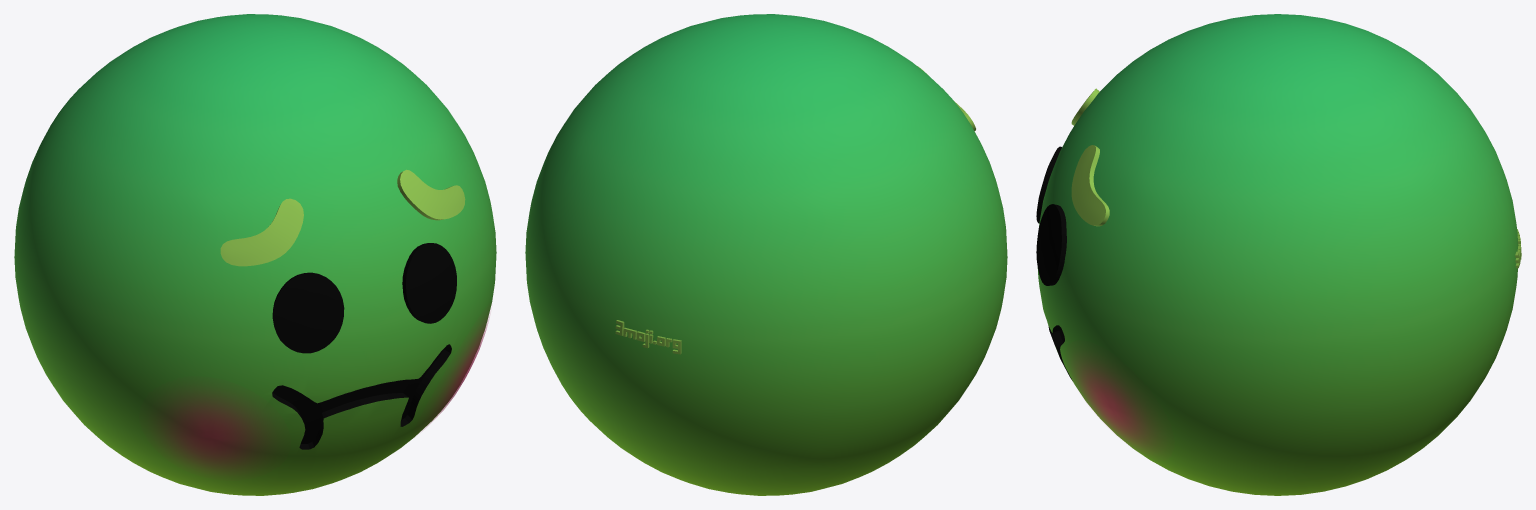
File: nauseated_face.glb
3 views of the same model, side by side, from view 1: azimuth 30°, elevation 25°; view 2: azimuth 150°, elevation 25°; view 3: azimuth 270°, elevation 25° (orthographic).
Visible parts, largest first — view 1: Nauseated Face; view 2: Nauseated Face; view 3: Nauseated Face.
Part boxes in pixels (x1,y1,x2,y2): Nauseated Face: (14, 14, 496, 495); Nauseated Face: (525, 14, 1007, 495); Nauseated Face: (1036, 14, 1521, 495).
Size of the model in its own units: 1.69 by 1.69 by 1.7.
Materials: 2 (2 with a texture image).
